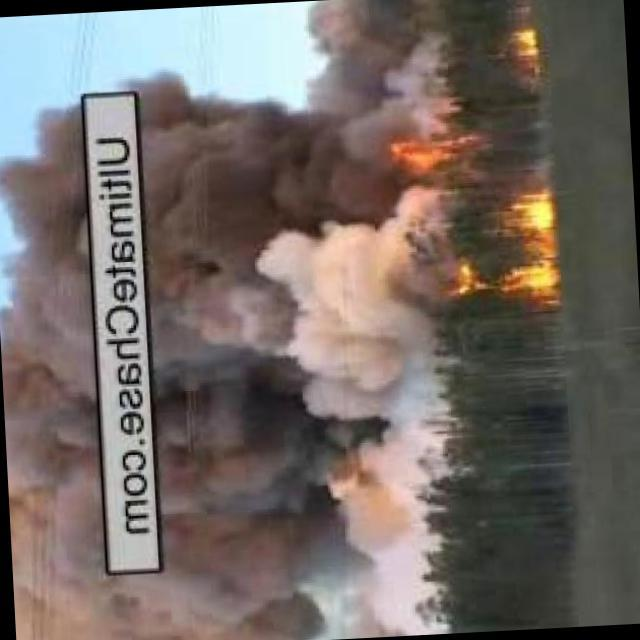Fire: (446, 191, 565, 314), (389, 126, 474, 180), (503, 26, 543, 72)
